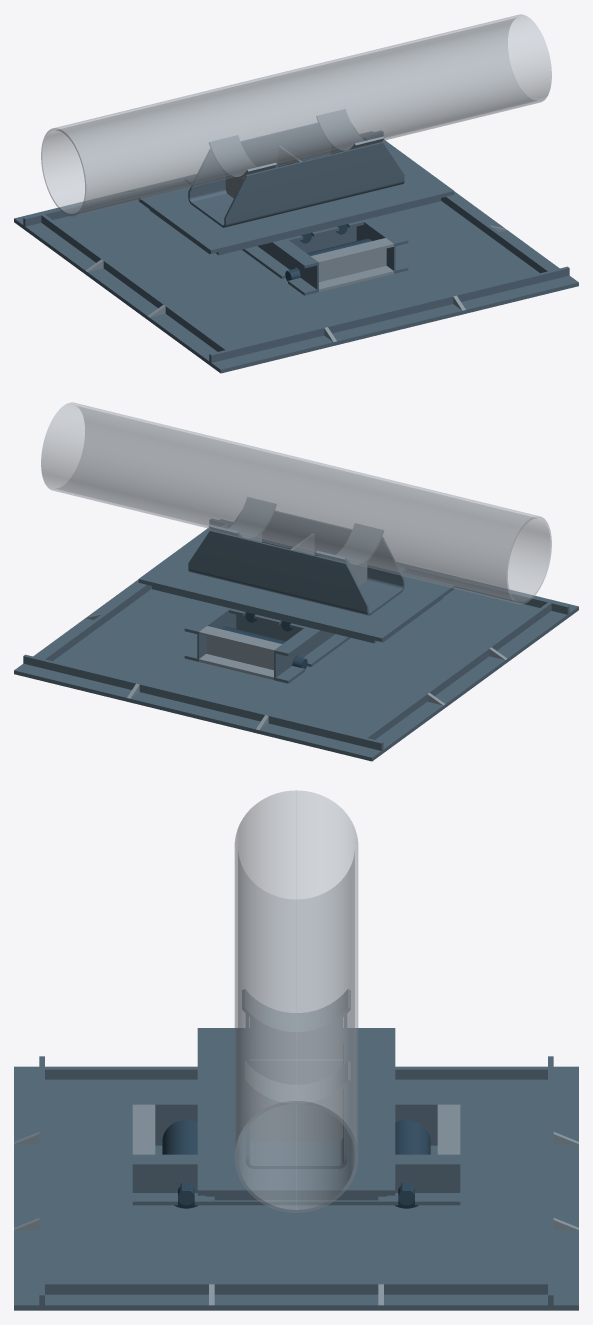
Rendered from TS-628.00.000-03-opora-dn219-hod400.glb.
The picture shows the model from 3 angles, top to bottom: view 1: azimuth 30°, elevation 25°; view 2: azimuth 150°, elevation 25°; view 3: azimuth 270°, elevation 25°; orthographic projection. The views are drawn at different scales.
Parts seen in each view (by area): view 1: truba, plita_niz_osnovanie_0, korpus_skoba_44, plita_verh_osnovanie_39, plita_niz_polosa2_7, karetka_rebro_shveller_15, karetka_shveller_prodolnyj_13, plita_niz_polosa3_8, plita_niz_polosa2_1, korpus_podushka_48, korpus_podushka_49, plita_niz_polosa3_2 (+3 smaller); view 2: truba, plita_niz_osnovanie_0, korpus_skoba_44, plita_verh_osnovanie_39, plita_niz_polosa2_1, karetka_rebro_shveller_18, karetka_shveller_prodolnyj_13, plita_niz_polosa3_8, plita_niz_polosa2_7, korpus_podushka_48, korpus_podushka_49, plita_niz_polosa3_2 (+3 smaller); view 3: plita_niz_osnovanie_0, truba, plita_verh_osnovanie_39, karetka_shveller_prodolnyj_16, plita_niz_polosa3_2, plita_niz_polosa3_8, korpus_rebro3_46, korpus_skoba_44, karetka_shveller_prodolnyj_13, korpus_rebro3_45, korpus_podushka_49, korpus_podushka_48 (+6 smaller).
Boxes of the visible parts, left/top/right/bottom form: truba: left=41, top=14, right=551, bottom=216; plita_niz_osnovanie_0: left=14, top=131, right=578, bottom=373; korpus_skoba_44: left=188, top=123, right=404, bottom=227; plita_verh_osnovanie_39: left=138, top=140, right=454, bottom=253; plita_niz_polosa2_7: left=209, top=266, right=569, bottom=362; karetka_rebro_shveller_15: left=311, top=238, right=393, bottom=291; karetka_shveller_prodolnyj_13: left=185, top=175, right=318, bottom=295; plita_niz_polosa3_8: left=41, top=214, right=228, bottom=351; plita_niz_polosa2_1: left=23, top=131, right=383, bottom=226; korpus_podushka_48: left=209, top=135, right=276, bottom=179; korpus_podushka_49: left=316, top=109, right=384, bottom=151; plita_niz_polosa3_2: left=364, top=136, right=550, bottom=273; truba: left=41, top=402, right=551, bottom=604; plita_niz_osnovanie_0: left=14, top=519, right=578, bottom=761; korpus_skoba_44: left=188, top=511, right=404, bottom=615; plita_verh_osnovanie_39: left=138, top=528, right=454, bottom=641; plita_niz_polosa2_1: left=23, top=654, right=383, bottom=750; karetka_rebro_shveller_18: left=199, top=626, right=281, bottom=679; karetka_shveller_prodolnyj_13: left=274, top=563, right=407, bottom=683; plita_niz_polosa3_8: left=364, top=602, right=551, bottom=739; plita_niz_polosa2_7: left=209, top=519, right=569, bottom=614; korpus_podushka_48: left=316, top=523, right=383, bottom=567; korpus_podushka_49: left=208, top=497, right=276, bottom=539; plita_niz_polosa3_2: left=42, top=524, right=228, bottom=661; plita_niz_osnovanie_0: left=14, top=1066, right=578, bottom=1310; truba: left=234, top=790, right=358, bottom=1212; plita_verh_osnovanie_39: left=197, top=1028, right=395, bottom=1195; karetka_shveller_prodolnyj_16: left=132, top=1154, right=460, bottom=1205; plita_niz_polosa3_2: left=45, top=1282, right=547, bottom=1294; plita_niz_polosa3_8: left=45, top=1067, right=547, bottom=1079; korpus_rebro3_46: left=249, top=1090, right=343, bottom=1141; korpus_skoba_44: left=245, top=1015, right=347, bottom=1168; karetka_shveller_prodolnyj_13: left=132, top=1095, right=460, bottom=1145; korpus_rebro3_45: left=250, top=1018, right=342, bottom=1058; korpus_podushka_49: left=242, top=1061, right=350, bottom=1106; korpus_podushka_48: left=242, top=989, right=350, bottom=1034.
Bounding box in the file's own units: 1300 × 480 × 1000.
